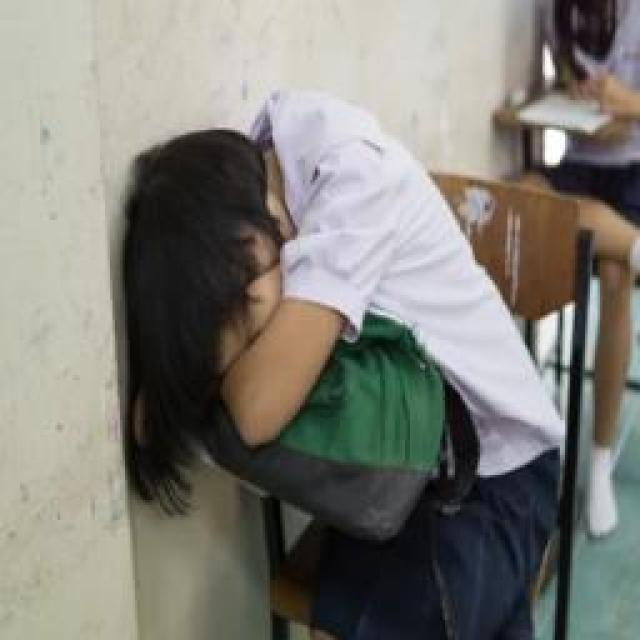sleep: (120, 75, 452, 473)
